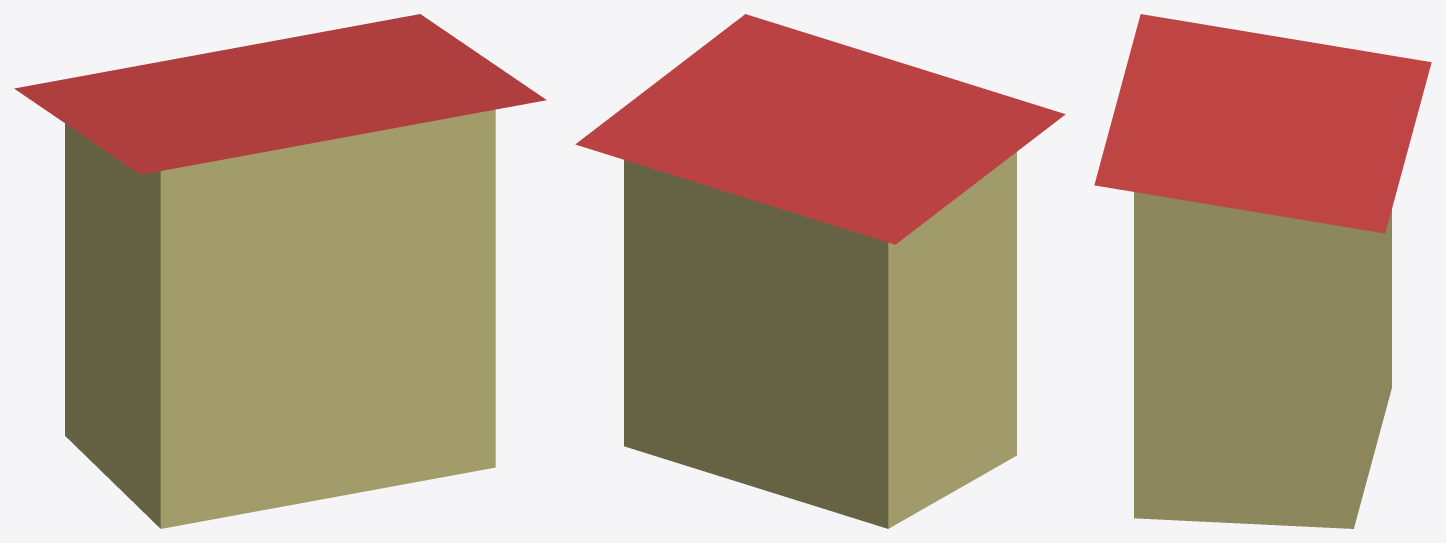
3 views of the same model, side by side, from view 1: azimuth 30°, elevation 25°; view 2: azimuth 150°, elevation 25°; view 3: azimuth 270°, elevation 25° (orthographic). The views are drawn at different scales.
Bounding box in the file's own units: 6.13 × 4.71 × 5.34.
